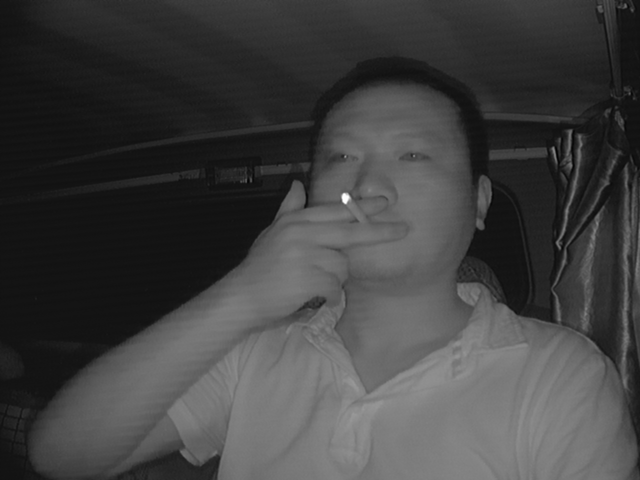hand: (289, 190, 406, 300)
